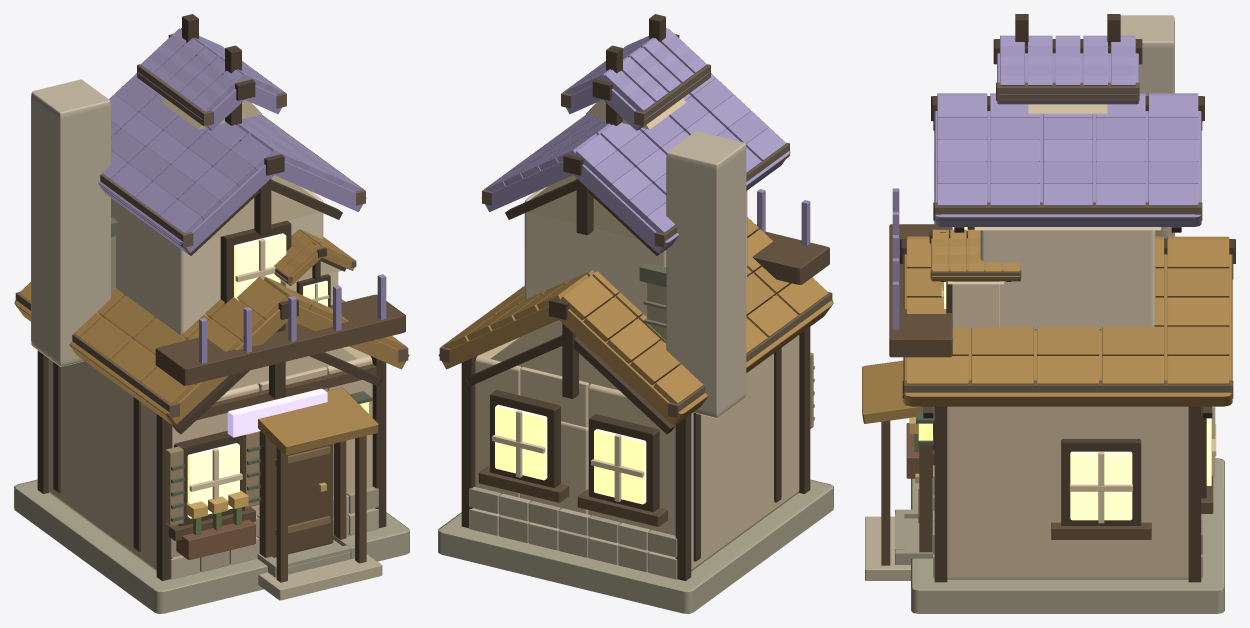
Rendered from workshop-3-3.glb.
3 renders of one model, left to right at view 1: azimuth 30°, elevation 25°; view 2: azimuth 150°, elevation 25°; view 3: azimuth 270°, elevation 25°, orthographic. The views are drawn at different scales.
Parts seen in each view (by area): view 1: workshop-3-3, door-hinge; view 2: workshop-3-3; view 3: workshop-3-3.
Part boxes in pixels (left/top/right/bottom): workshop-3-3: left=14, top=14, right=409, bottom=613; door-hinge: left=271, top=442, right=333, bottom=557; workshop-3-3: left=438, top=14, right=833, bottom=613; workshop-3-3: left=862, top=14, right=1235, bottom=613.
Bounding box in the file's own units: 1.91 × 3.51 × 2.24.
